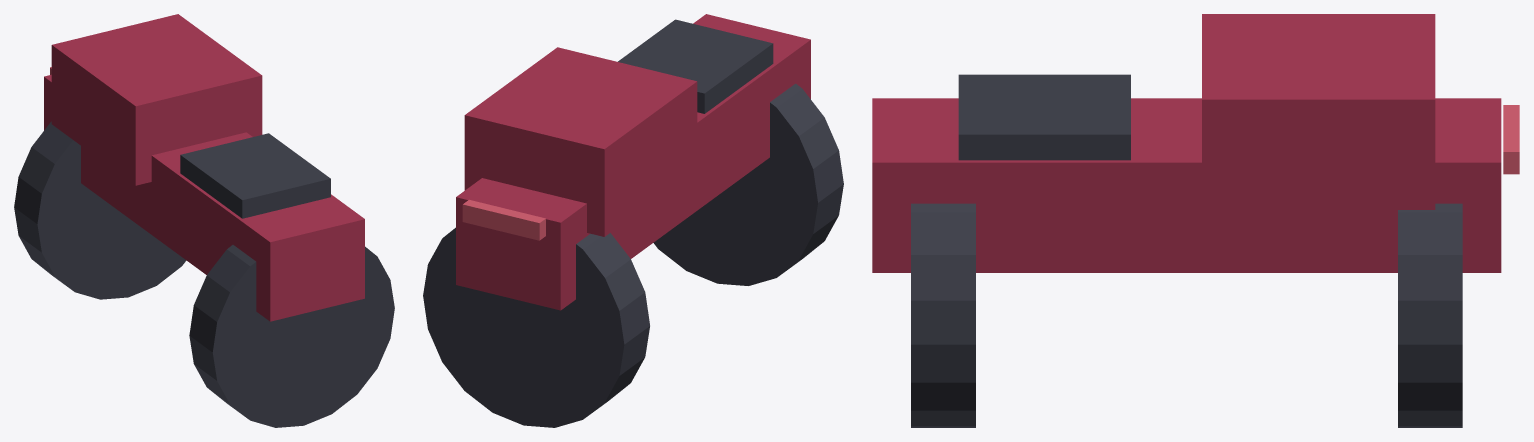
Rendered from CRB1_batcycle.glb.
3 views of the same model, side by side, from view 1: azimuth 30°, elevation 25°; view 2: azimuth 150°, elevation 25°; view 3: azimuth 270°, elevation 25° (orthographic). The views are drawn at different scales.
Parts seen in each view (by area): view 1: fairing, wheel_1.2, frame, wheel_-1.2, seat; view 2: fairing, wheel_-1.2, frame, wheel_1.2, seat, headlight; view 3: frame, fairing, seat, wheel_1.2, wheel_-1.2, headlight.
Part boxes in pixels (x1=…): fairing: x1=51, y1=14, x2=262, y2=185; wheel_1.2: x1=189, y1=245, x2=394, y2=427; frame: x1=44, y1=74, x2=364, y2=321; wheel_-1.2: x1=14, y1=121, x2=186, y2=299; seat: x1=180, y1=133, x2=330, y2=218; fairing: x1=464, y1=47, x2=697, y2=236; wheel_-1.2: x1=423, y1=227, x2=649, y2=427; frame: x1=456, y1=14, x2=810, y2=310; wheel_1.2: x1=653, y1=83, x2=843, y2=285; seat: x1=618, y1=19, x2=773, y2=113; headlight: x1=462, y1=199, x2=545, y2=240; frame: x1=872, y1=98, x2=1501, y2=272; fairing: x1=1202, y1=14, x2=1435, y2=209; seat: x1=958, y1=74, x2=1130, y2=160; wheel_1.2: x1=911, y1=203, x2=975, y2=427; wheel_-1.2: x1=1398, y1=203, x2=1462, y2=427; headlight: x1=1503, y1=105, x2=1519, y2=174.
Bounding box in the file's own units: 1.44 × 1.95 × 3.19.
